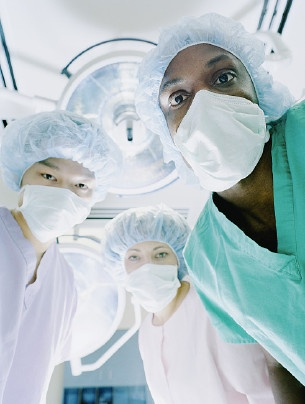Mask: (19, 158, 105, 245)
